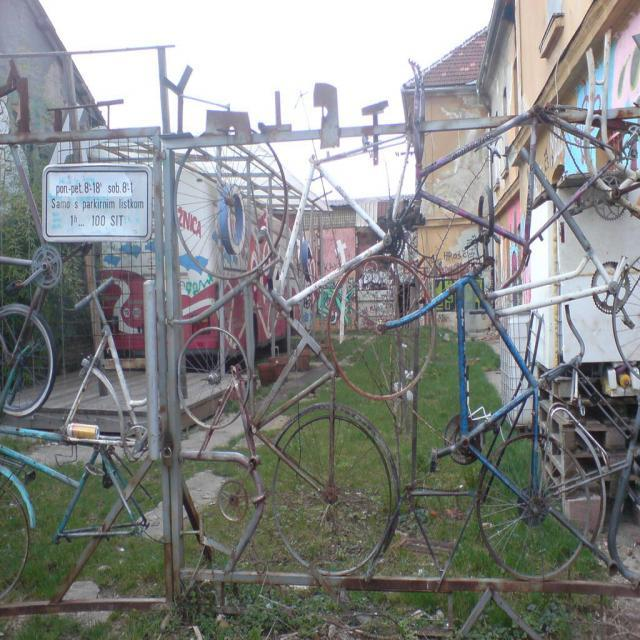car: (326, 186, 616, 584), (173, 222, 397, 580), (0, 243, 91, 414)
